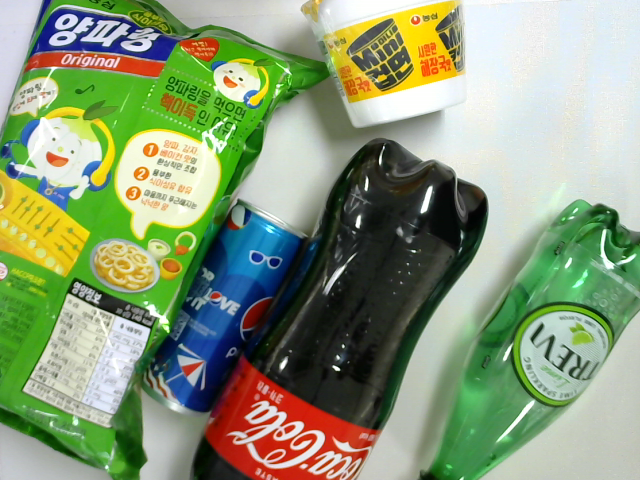Coca_Cola_1.5L: (187, 137, 493, 480)
Hejangmini: (299, 1, 470, 132)
Oninon_Ring: (1, 1, 331, 480)
Pepsi_Cola_Can_250ml: (140, 194, 311, 418)
Treviraim_500ml: (420, 199, 640, 480)
